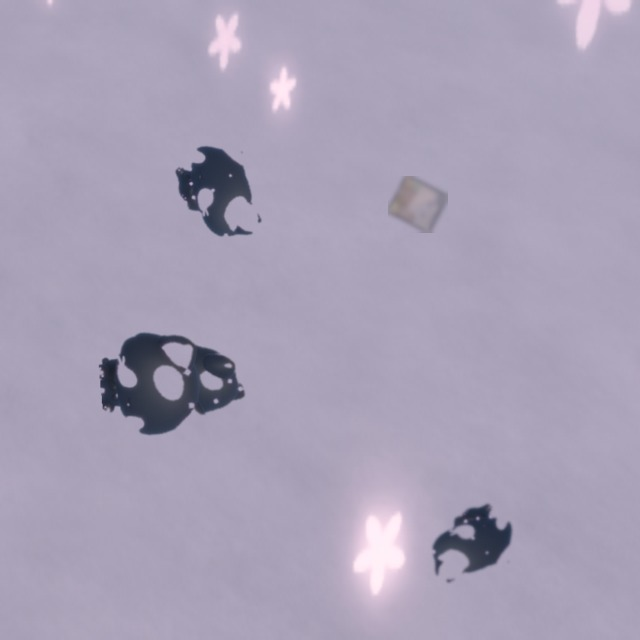urso_branco: (388, 176, 448, 233)
urso_preto: (95, 318, 259, 450), (151, 115, 287, 270), (402, 481, 541, 606)
